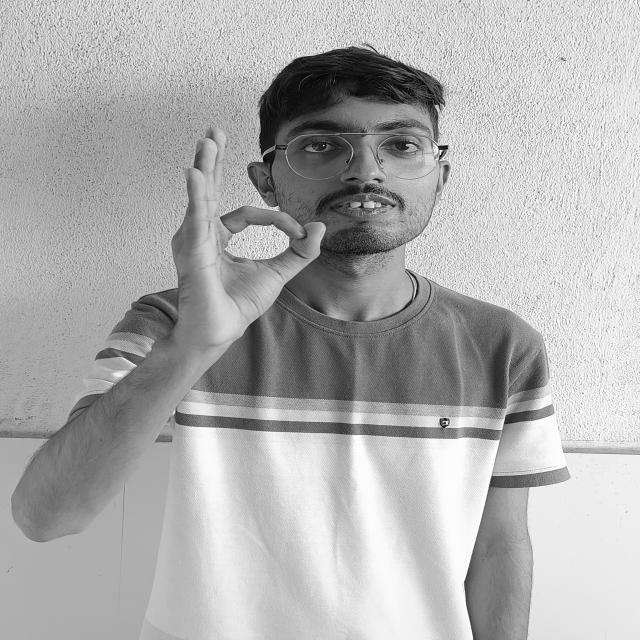Superb: (138, 124, 332, 384)
